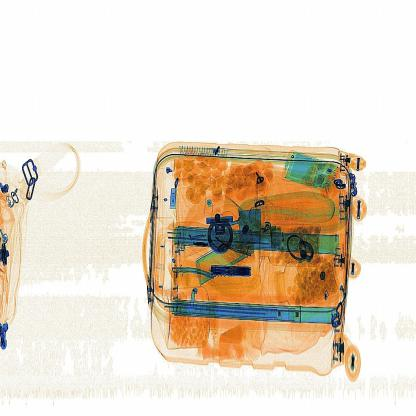scissors: (205, 258, 259, 282)
